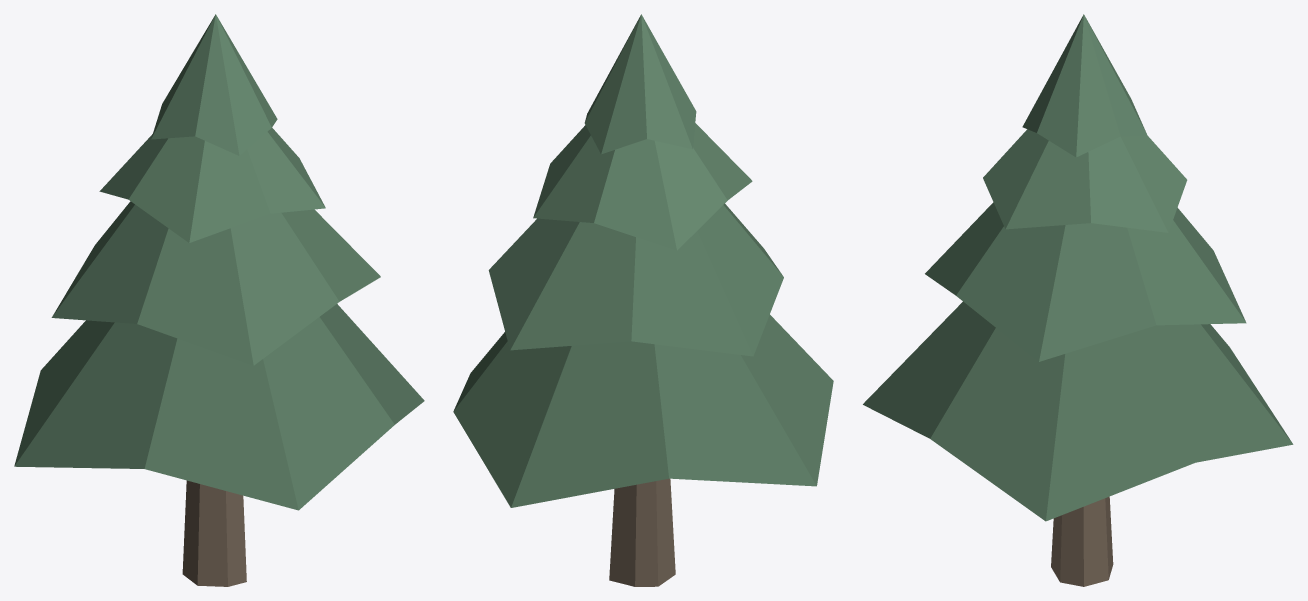
Rendered from pine_1.glb.
The picture shows the model from 3 angles, left to right: view 1: azimuth 30°, elevation 25°; view 2: azimuth 150°, elevation 25°; view 3: azimuth 270°, elevation 25°; orthographic projection.
Parts seen in each view (by area): view 1: pine_1.001; view 2: pine_1.001; view 3: pine_1.001.
Boxes of the visible parts, x1=… form: pine_1.001: x1=14, y1=14, x2=424, y2=586; pine_1.001: x1=453, y1=14, x2=833, y2=586; pine_1.001: x1=863, y1=14, x2=1293, y2=586.
Size of the model in its own units: 7.08 by 10.09 by 7.05.
